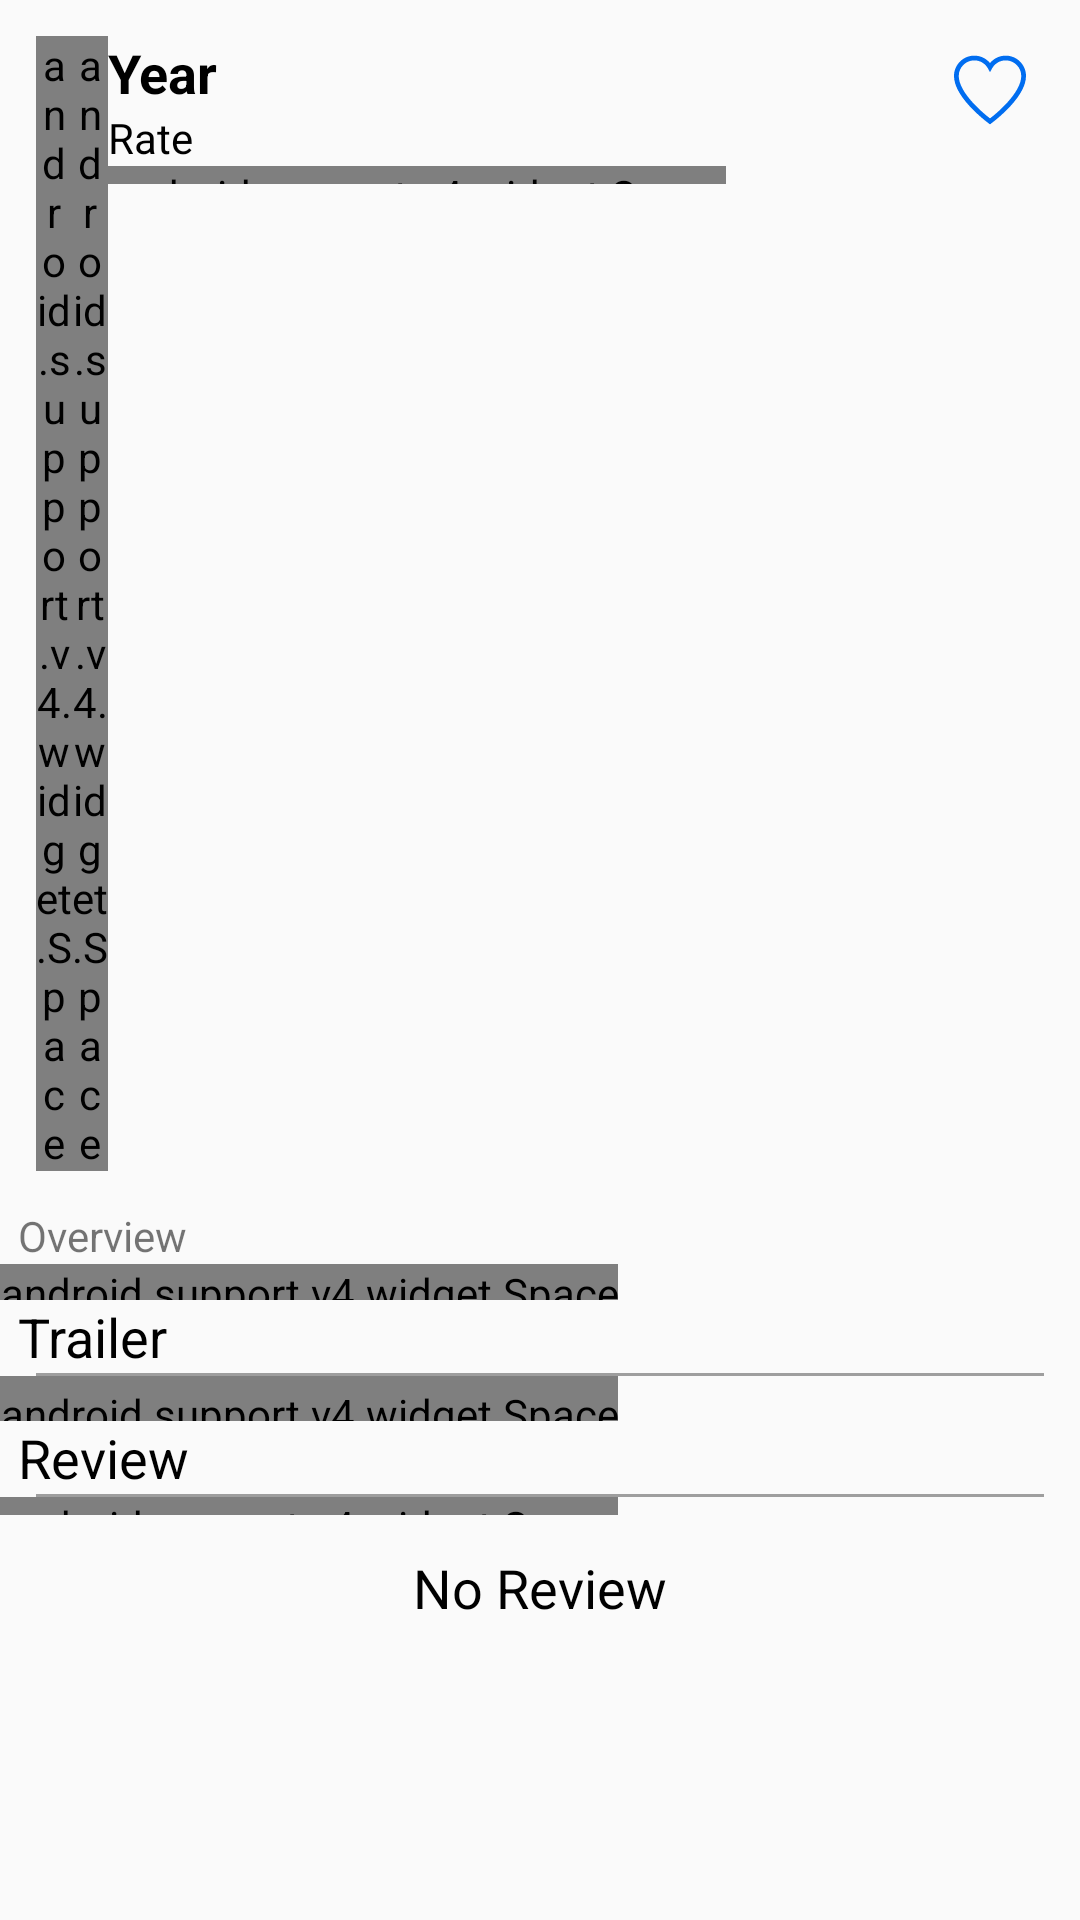

Named icons in this screenshot (1080w x 1920h) and their centers, (x=x, y=y):
unfavorite: (x=990, y=89)
